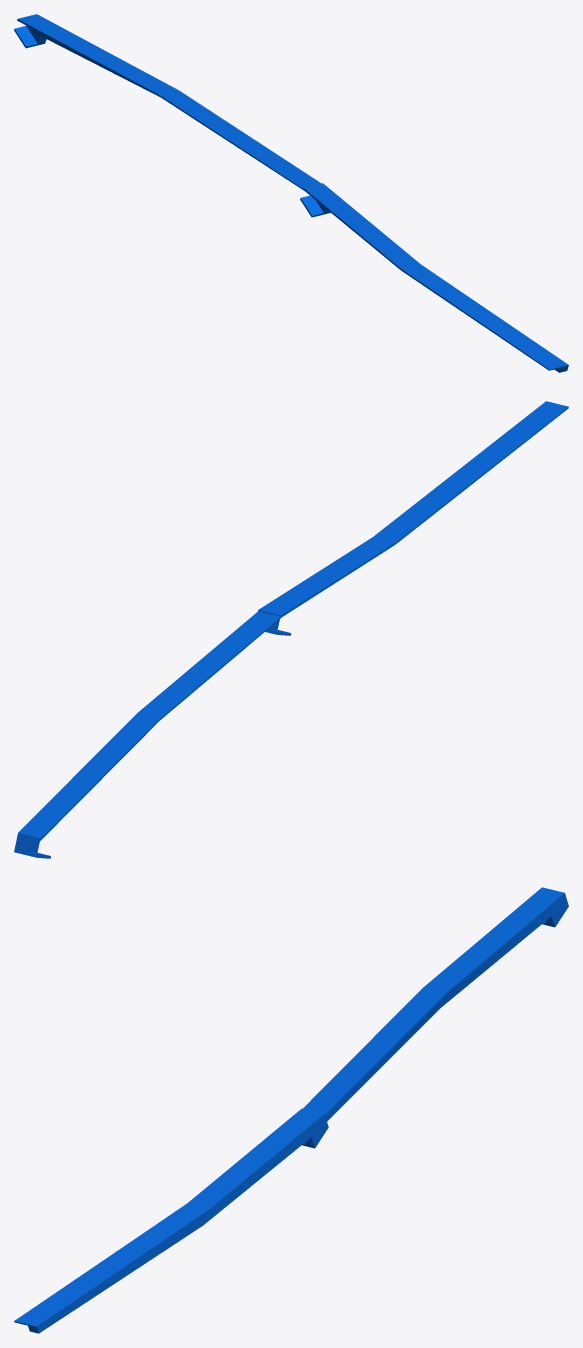
Rendered from Twisted_Metal_05.fbx.
The picture shows the model from 3 angles, top to bottom: view 1: azimuth 30°, elevation 25°; view 2: azimuth 150°, elevation 25°; view 3: azimuth 330°, elevation 25°; orthographic projection. The views are drawn at different scales.
Parts seen in each view (by area): view 1: Twisted_Metal_05; view 2: Twisted_Metal_05; view 3: Twisted_Metal_05.
Part boxes in pixels (x1,y1,x2,y2): Twisted_Metal_05: (14,14,568,372); Twisted_Metal_05: (14,401,568,858); Twisted_Metal_05: (14,887,568,1333).
Size of the model in its own units: 61.72 by 31.27 by 884.
